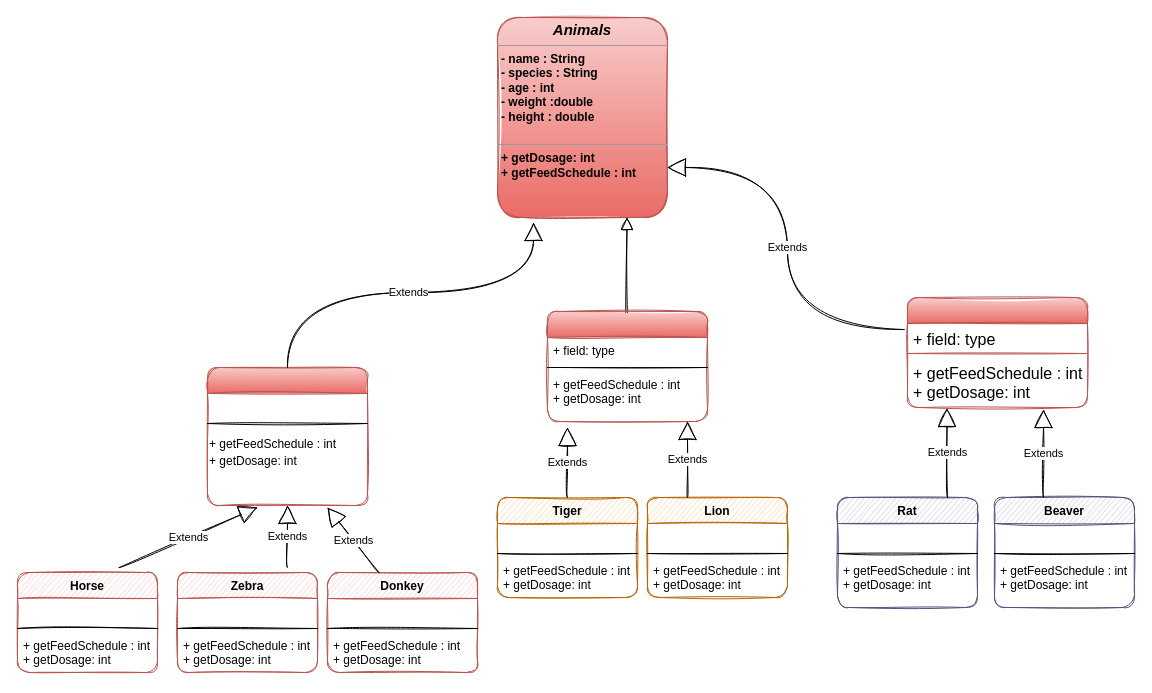
This 1152x693 diagram has some shape labels left out. Here are the shapes that lost their labels. From the top down, the box of each, then its label:
(546, 310, 708, 422): Felines
(906, 296, 1088, 408): Rodents
(206, 366, 368, 506): Horses
